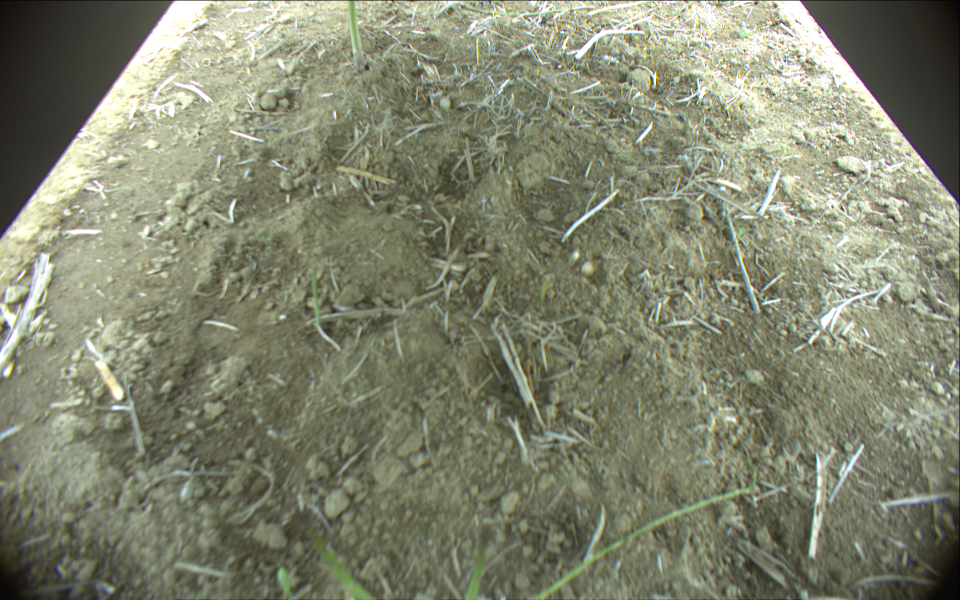aspa: (521, 483, 760, 600), (308, 532, 378, 600), (466, 532, 490, 600), (348, 1, 367, 73)
